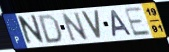A: (110, 9, 134, 38)
D: (38, 13, 64, 45)
E: (122, 6, 153, 38)
N: (60, 11, 90, 43), (18, 14, 46, 48)
V: (79, 10, 103, 40)
